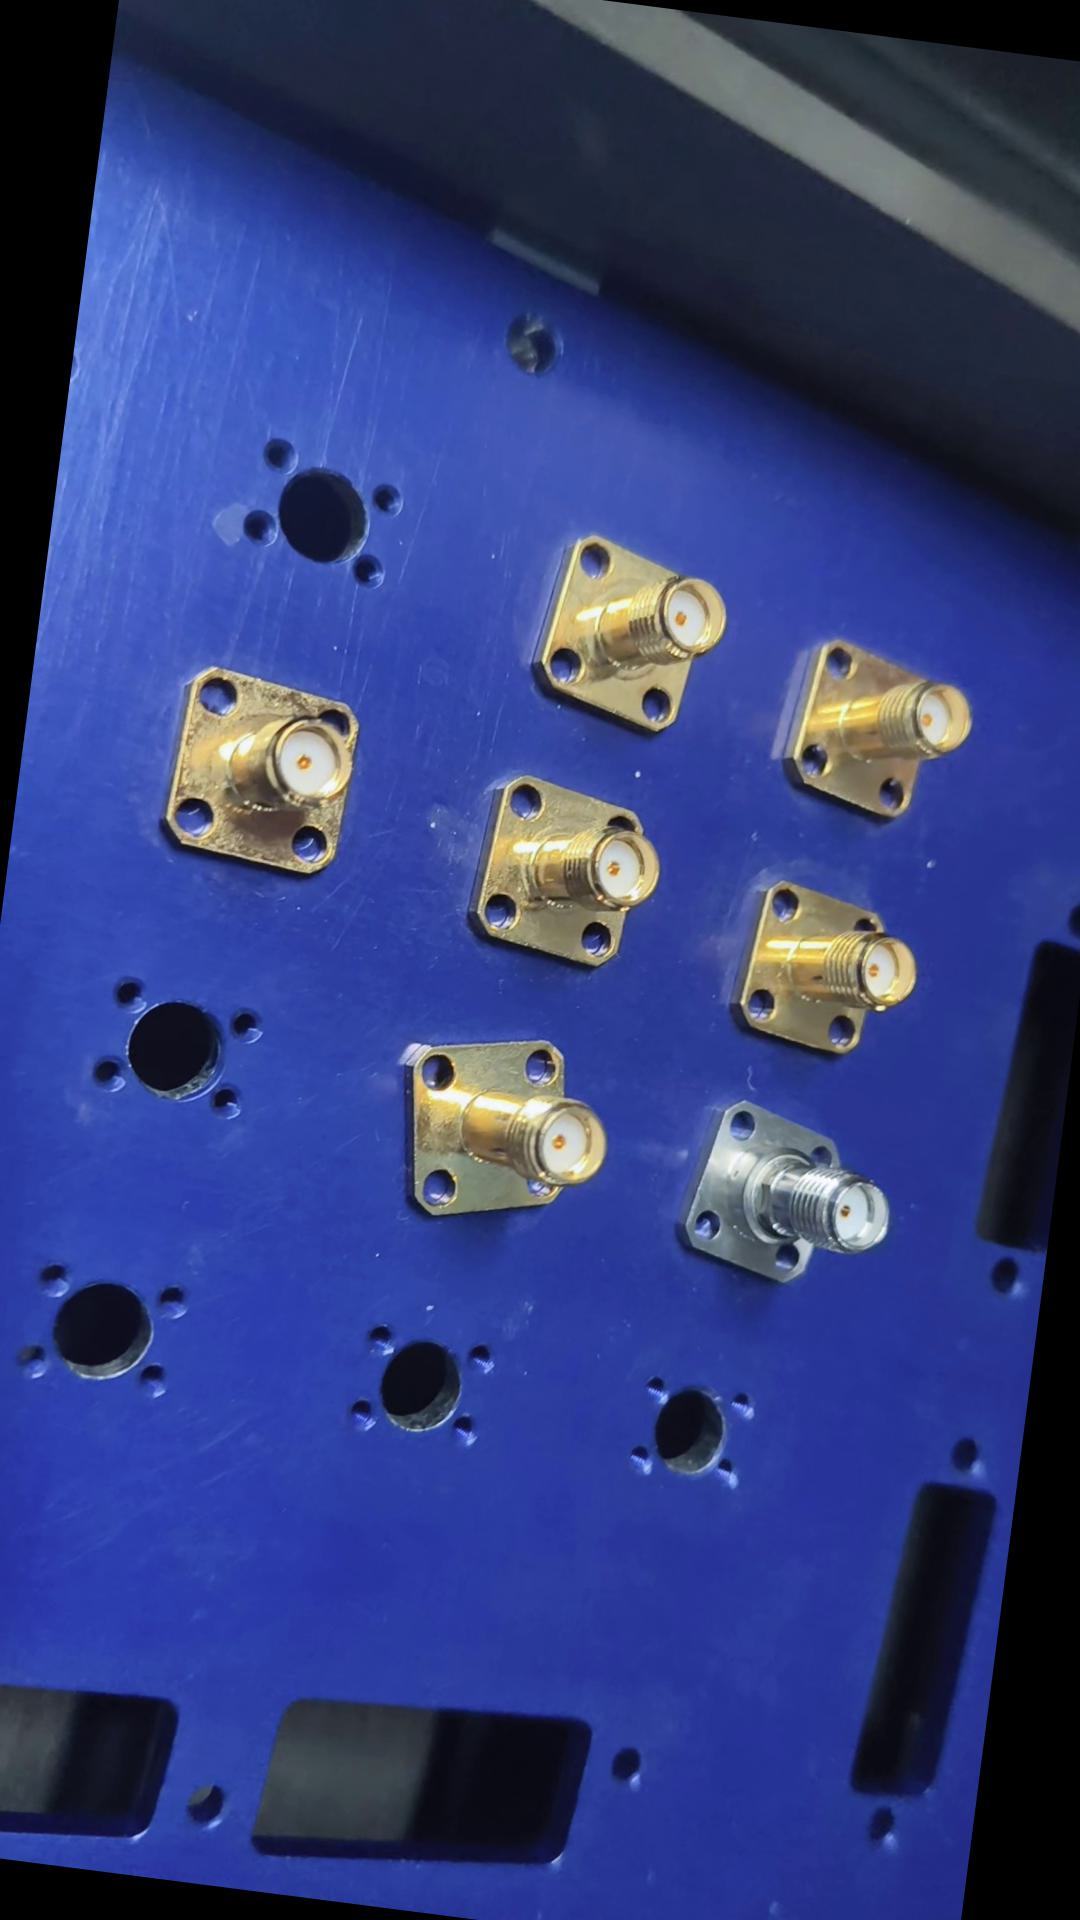SMA: (376, 1015, 620, 1245), (513, 524, 731, 742), (149, 658, 364, 877), (454, 766, 669, 975), (669, 1095, 899, 1288), (767, 636, 976, 833), (717, 876, 923, 1062)
